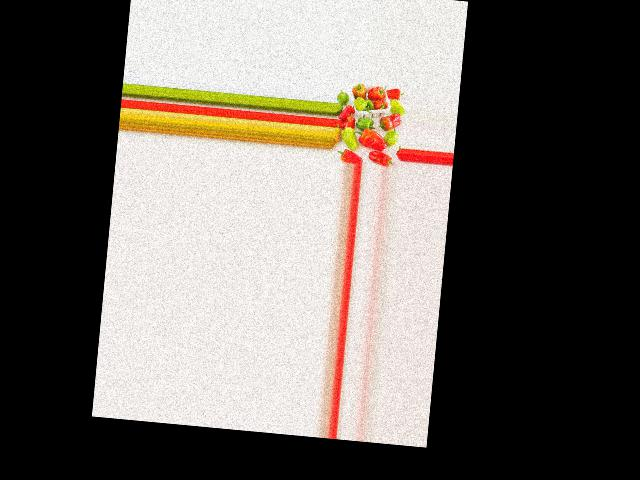bell_pepper: (335, 146, 360, 164)
